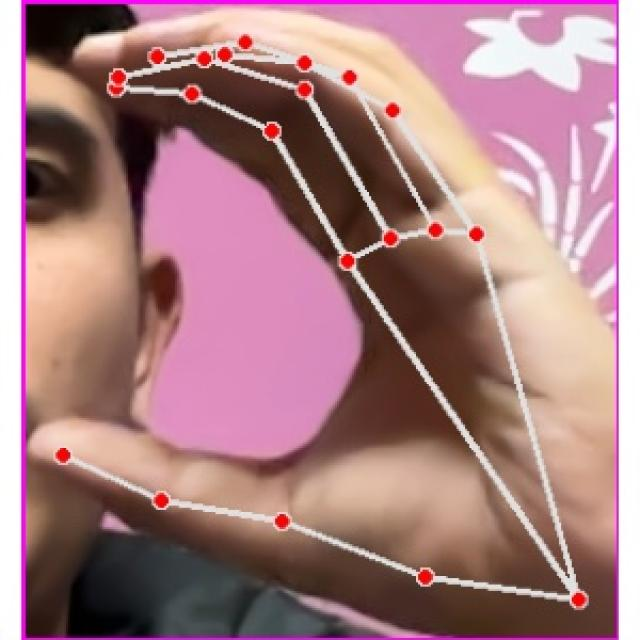C: (34, 2, 619, 640)
